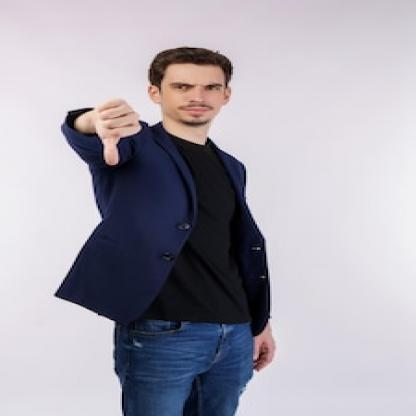thumb_down: (79, 93, 149, 170)
